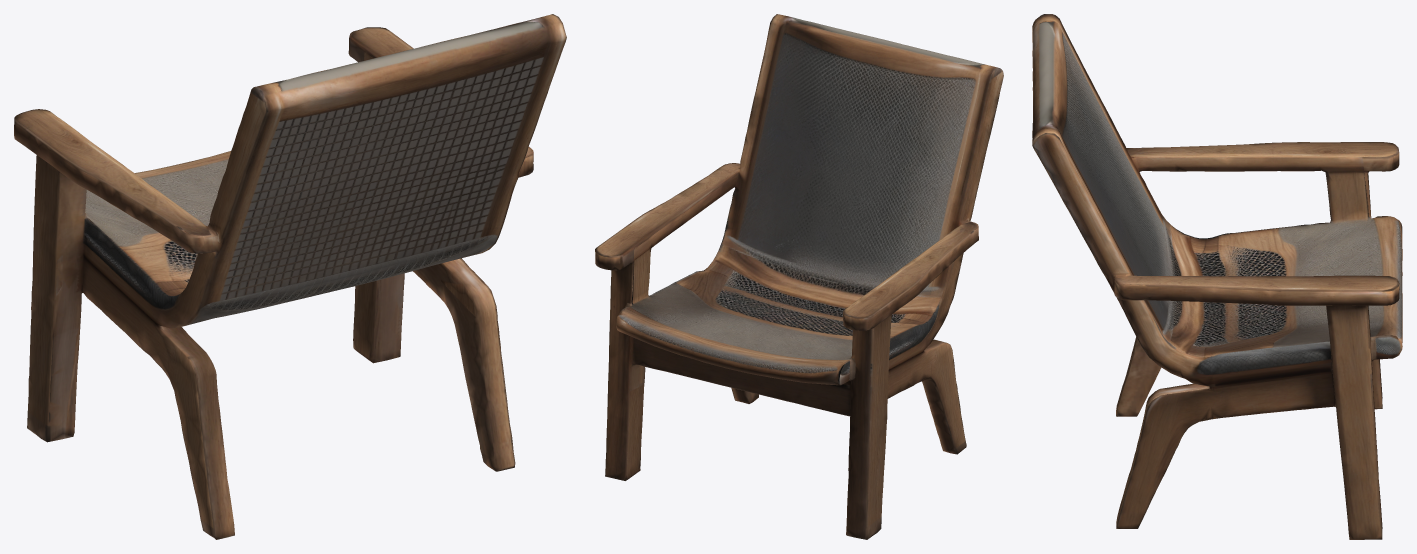
File: wooden chair.glb
3 renders of one model, left to right at view 1: azimuth 30°, elevation 25°; view 2: azimuth 150°, elevation 25°; view 3: azimuth 270°, elevation 25°, orthographic. The views are drawn at different scales.
Bounding box in the file's own units: 1.62 × 2 × 1.7.
Materials: 1 (1 with a texture image).
